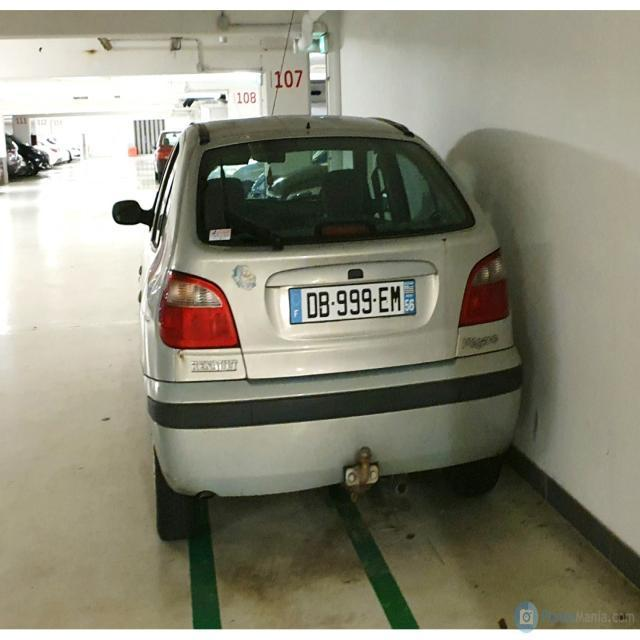EU: (290, 277, 418, 323)
France: (289, 289, 300, 323)
